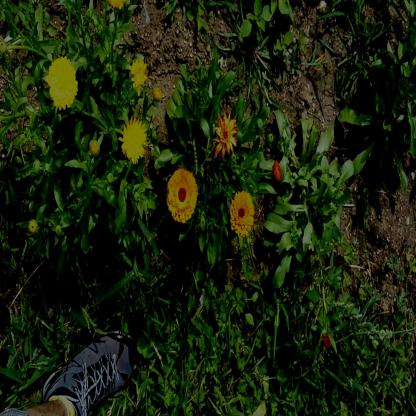marigold: (168, 169, 196, 221), (50, 57, 77, 110), (118, 114, 143, 158), (231, 191, 256, 235), (214, 115, 238, 156), (127, 56, 148, 95)
